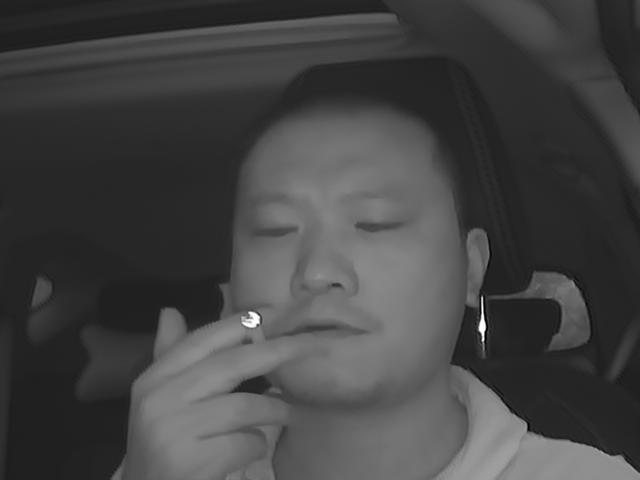hand: (161, 304, 299, 474)
